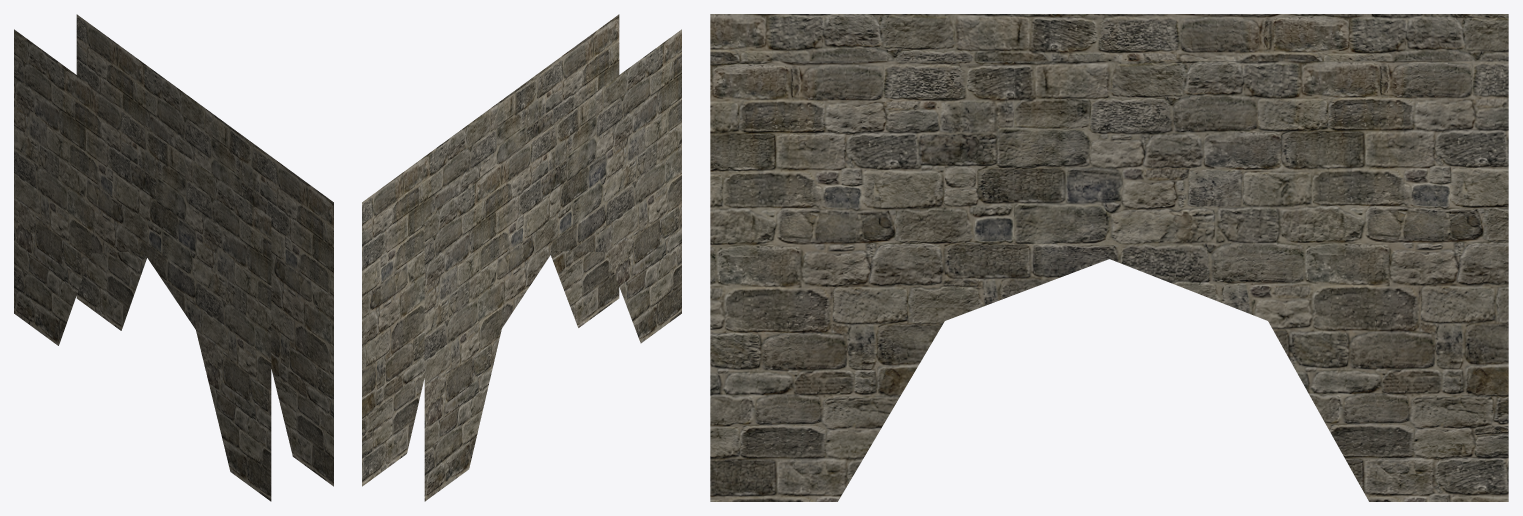
The model's file is SM_EN_2005_qiang0102.FBX.
3 renders of one model, left to right at view 1: azimuth 30°, elevation 25°; view 2: azimuth 150°, elevation 25°; view 3: azimuth 270°, elevation 25°, orthographic. The views are drawn at different scales.
Visible parts, largest first — view 1: SM_EN_2005_qiang0102; view 2: SM_EN_2005_qiang0102; view 3: SM_EN_2005_qiang0102.
Boxes of the visible parts, box(x1,y1,x2,y2) form: SM_EN_2005_qiang0102: box(14, 14, 333, 501); SM_EN_2005_qiang0102: box(362, 14, 681, 501); SM_EN_2005_qiang0102: box(710, 14, 1508, 501).
Bounding box in the file's own units: 28.26 × 123 × 202.
